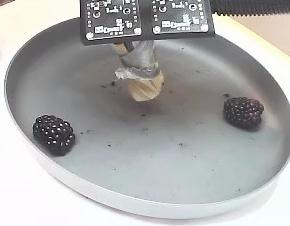berry: (33, 115, 74, 155), (223, 94, 263, 131)
